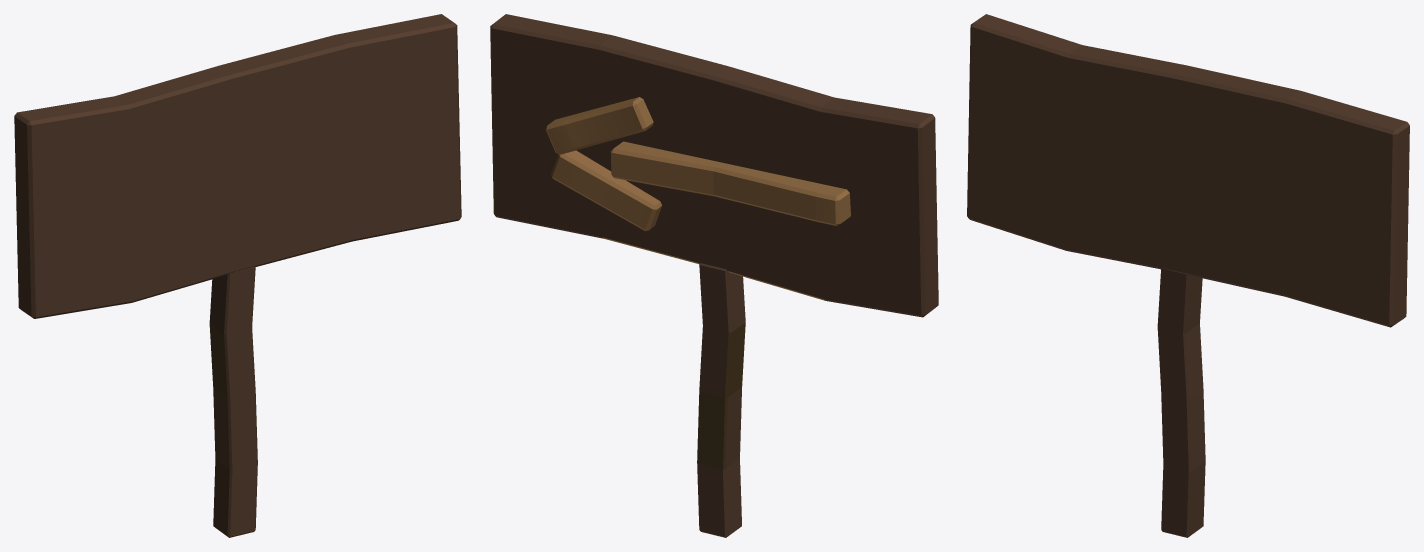
Rendered from SchildLinks.fbx.
The picture shows the model from 3 angles, left to right: view 1: azimuth 30°, elevation 25°; view 2: azimuth 150°, elevation 25°; view 3: azimuth 330°, elevation 25°; orthographic projection.
Parts seen in each view (by area): view 1: SchildLinks; view 2: SchildLinks; view 3: SchildLinks.
Part boxes in pixels (box(x1,y1,x2,y2)): SchildLinks: box(14, 14, 461, 537); SchildLinks: box(490, 14, 938, 537); SchildLinks: box(967, 14, 1409, 537).
Size of the model in its own units: 650 by 667 by 80.04.
